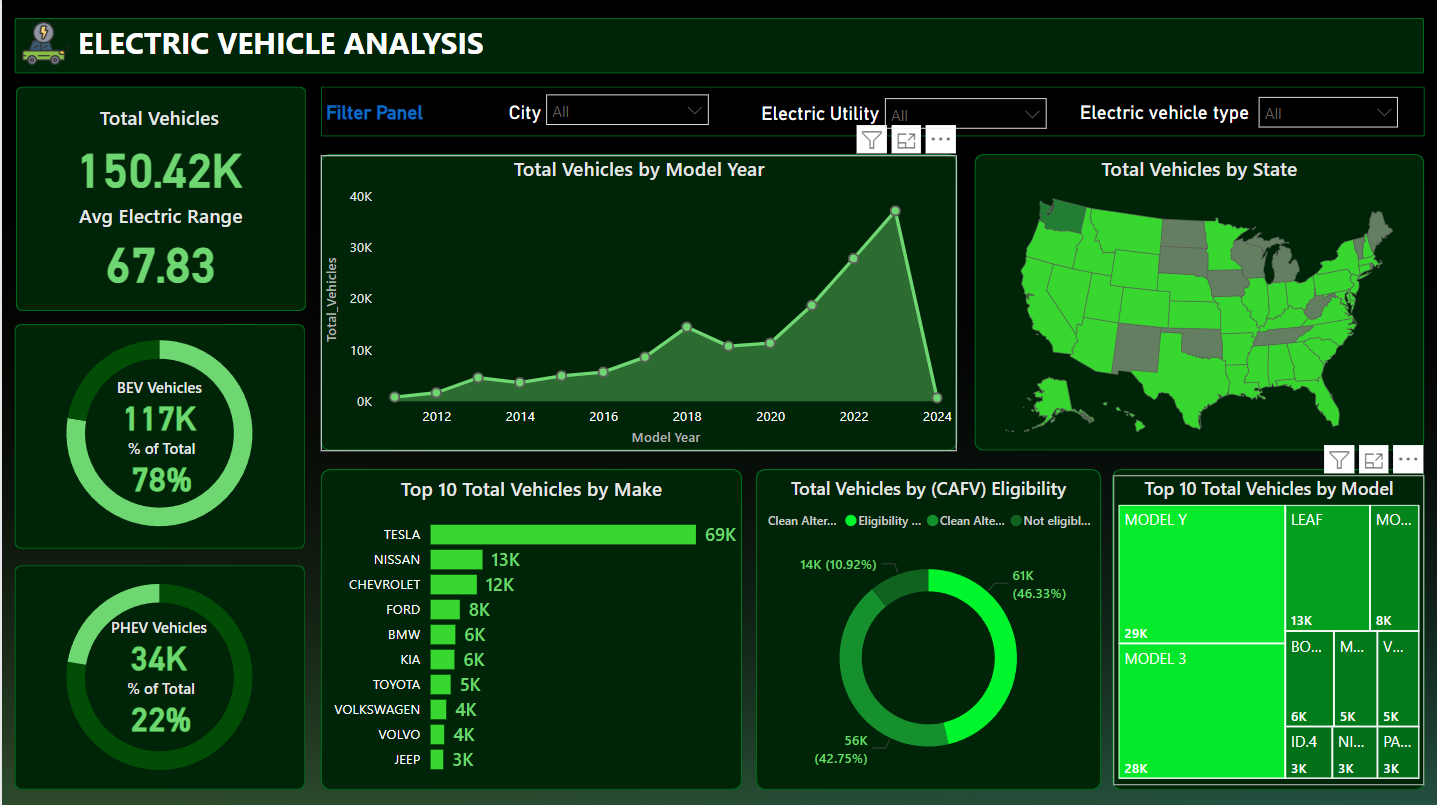

This screenshot's page, from the dashboard's own definition file:
{"tool":"powerbi","page":{"name":"Page 1","canvas":[1280,720],"ordinal":0},"visuals":[{"type":"shape","box":[11.2,16.2,1255.4,49.8],"z":0},{"type":"textbox","box":[44.6,15.7,1025.5,50.7],"z":1000},{"type":"shape","box":[12.4,78.4,258.8,200],"z":2000},{"type":"card","title":"Total Vehicles","fields":{"Values":["Electric_Vehicle_Population_Data.Total_Vehicles"]},"box":[23.8,93.7,233.5,87.7],"z":3000},{"type":"card","title":"Avg Electric Range","fields":{"Values":["Avg(Electric_Vehicle_Population_Data.Electric Range)"]},"box":[24.9,181.6,233.9,80.9],"z":4000},{"type":"shape","box":[11.2,289.9,258.8,200.3],"z":5000},{"type":"shape","box":[11.2,503.9,258.8,200],"z":6000},{"type":"donutChart","fields":{"Y":["Electric_Vehicle_Population_Data.Total_Vehicles"],"Category":["Electric_Vehicle_Population_Data.Electric Vehicle Type"]},"box":[22.9,278.7,234,217.2],"z":7000},{"type":"card","title":"BEV Vehicles","fields":{"Values":["Electric_Vehicle_Population_Data.BEV Vehicles"]},"box":[85.7,336.6,108.6,54.3],"z":8000},{"type":"card","title":"% of Total","fields":{"Values":["Electric_Vehicle_Population_Data.% of BEV"]},"box":[88.1,390.9,108.6,54.3],"z":9000},{"type":"donutChart","fields":{"Y":["Electric_Vehicle_Population_Data.Total_Vehicles"],"Category":["Electric_Vehicle_Population_Data.Electric Vehicle Type"]},"box":[22.9,495.8,234,217.2],"z":10000},{"type":"card","title":"PHEV Vehicles","fields":{"Values":["Electric_Vehicle_Population_Data.PHEV Vehicles"]},"box":[89.3,550.1,101.3,54.3],"z":11000},{"type":"card","title":"% of Total","fields":{"Values":["Electric_Vehicle_Population_Data.% of PHEV"]},"box":[101.3,604.4,80.8,54.3],"z":12000},{"type":"shape","box":[283.5,78.4,983.2,44.6],"z":13000},{"type":"shape","box":[283.5,137.5,567,264.2],"z":14000},{"type":"areaChart","title":"Total Vehicles by Model Year","fields":{"Category":["Electric_Vehicle_Population_Data.Model Year"],"Y":["Electric_Vehicle_Population_Data.Total_Vehicles"]},"box":[283.5,138.7,567,264.2],"z":15000},{"type":"shape","box":[866.2,137.5,400.5,264.2],"z":16000},{"type":"shapeMap","title":"Total Vehicles by State","fields":{"Category":["Electric_Vehicle_Population_Data.State"],"Value":["Electric_Vehicle_Population_Data.Total_Vehicles"]},"box":[866.2,138.7,400.5,263],"z":17000},{"type":"shape","box":[283.5,418.6,375.2,285.9],"z":18000},{"type":"shape","box":[670.8,418.6,307.6,285.9],"z":19000},{"type":"clusteredBarChart","title":"Top 10 Total Vehicles by Make","fields":{"Category":["Electric_Vehicle_Population_Data.Make"],"Y":["Electric_Vehicle_Population_Data.Total_Vehicles"]},"box":[283.5,424.7,375.2,276.3],"z":20000},{"type":"shape","box":[988.1,418.6,278.7,285.9],"z":21000},{"type":"donutChart","title":"Total Vehicles by (CAFV) Eligibility","fields":{"Y":["Electric_Vehicle_Population_Data.Total_Vehicles"],"Category":["Electric_Vehicle_Population_Data.Clean Alternative Fuel Vehicle (CAFV) Eligibility"]},"box":[670.8,424.7,307.6,276.3],"z":22000},{"type":"treemap","title":"Top 10 Total Vehicles by Model","fields":{"Group":["Electric_Vehicle_Population_Data.Model"],"Values":["Electric_Vehicle_Population_Data.Total_Vehicles"]},"box":[989.3,424.7,277.5,275.1],"z":23000},{"type":"textbox","box":[283.5,85.7,111,32.6],"z":24000},{"type":"textbox","box":[446.4,85.7,111,32.6],"z":25000},{"type":"slicer","fields":{"Values":["Electric_Vehicle_Population_Data.City"]},"box":[474.1,74.8,165.3,44.6],"z":26000},{"type":"textbox","box":[670.8,86.9,141.2,32.6],"z":27000},{"type":"slicer","fields":{"Values":["Electric_Vehicle_Population_Data.Electric Utility"]},"box":[775.7,78.4,164.1,44.6],"z":28000},{"type":"textbox","box":[955.5,85.7,172.5,32.6],"z":29000},{"type":"slicer","fields":{"Values":["Electric_Vehicle_Population_Data.Electric Vehicle Type"]},"box":[1108.7,77.2,144.8,44.6],"z":30000},{"type":"image","box":[12.1,15.7,49.5,48.3],"z":31000}]}

Visuals, with their boxes in screenshot pixels (x1, y1, x2, y2), scaled from the page's 1280x720 canvas onto the 1437x805 screenshot:
shape: (left=13, top=18, right=1422, bottom=74)
textbox: (left=50, top=18, right=1201, bottom=74)
shape: (left=14, top=88, right=304, bottom=311)
"Total Vehicles" card: (left=27, top=105, right=289, bottom=203)
"Avg Electric Range" card: (left=28, top=203, right=291, bottom=293)
shape: (left=13, top=324, right=303, bottom=548)
shape: (left=13, top=563, right=303, bottom=787)
donutChart - Electric_Vehicle_Population_Data.Total_Vehicles x Electric_Vehicle_Population_Data.Electric Vehicle Type: (left=26, top=312, right=288, bottom=554)
"BEV Vehicles" card: (left=96, top=376, right=218, bottom=437)
"% of Total" card: (left=99, top=437, right=221, bottom=498)
donutChart - Electric_Vehicle_Population_Data.Total_Vehicles x Electric_Vehicle_Population_Data.Electric Vehicle Type: (left=26, top=554, right=288, bottom=797)
"PHEV Vehicles" card: (left=100, top=615, right=214, bottom=676)
"% of Total" card: (left=114, top=676, right=204, bottom=736)
shape: (left=318, top=88, right=1422, bottom=138)
shape: (left=318, top=154, right=955, bottom=449)
"Total Vehicles by Model Year" areaChart: (left=318, top=155, right=955, bottom=450)
shape: (left=972, top=154, right=1422, bottom=449)
"Total Vehicles by State" shapeMap: (left=972, top=155, right=1422, bottom=449)
shape: (left=318, top=468, right=739, bottom=788)
shape: (left=753, top=468, right=1098, bottom=788)
"Top 10 Total Vehicles by Make" clusteredBarChart: (left=318, top=475, right=739, bottom=784)
shape: (left=1109, top=468, right=1422, bottom=788)
"Total Vehicles by (CAFV) Eligibility" donutChart: (left=753, top=475, right=1098, bottom=784)
"Top 10 Total Vehicles by Model" treemap: (left=1111, top=475, right=1422, bottom=782)
textbox: (left=318, top=96, right=443, bottom=132)
textbox: (left=501, top=96, right=626, bottom=132)
slicer - Electric_Vehicle_Population_Data.City: (left=532, top=84, right=718, bottom=133)
textbox: (left=753, top=97, right=912, bottom=134)
slicer - Electric_Vehicle_Population_Data.Electric Utility: (left=871, top=88, right=1055, bottom=138)
textbox: (left=1073, top=96, right=1266, bottom=132)
slicer - Electric_Vehicle_Population_Data.Electric Vehicle Type: (left=1245, top=86, right=1407, bottom=136)
image: (left=14, top=18, right=69, bottom=72)
